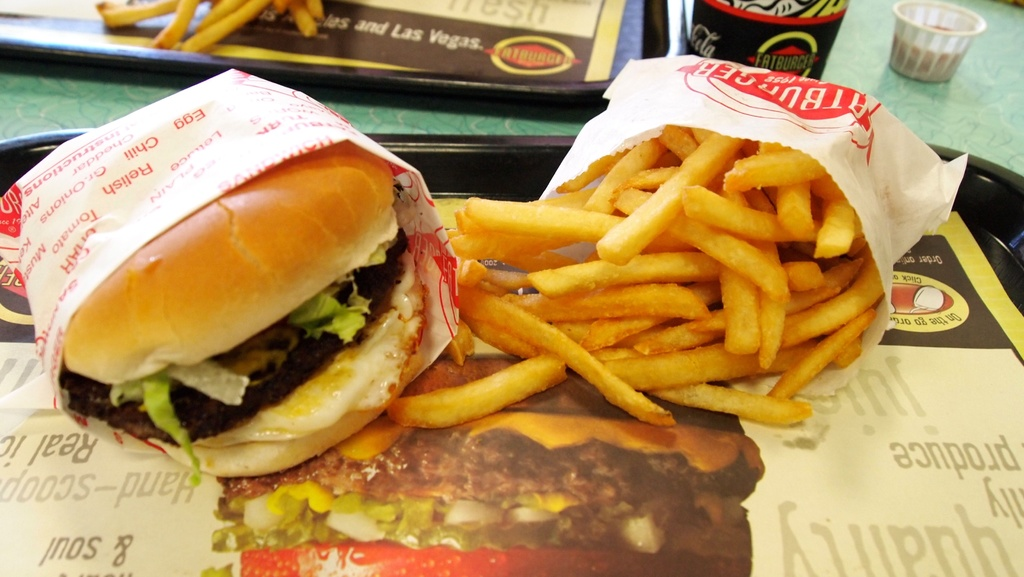French fries: (462, 284, 673, 428), (613, 176, 801, 315), (595, 133, 741, 265), (382, 341, 571, 437), (600, 341, 813, 399), (768, 306, 876, 412), (781, 252, 892, 343), (503, 277, 714, 324), (524, 245, 730, 293), (654, 383, 817, 429), (466, 198, 629, 240), (583, 135, 670, 205), (448, 226, 581, 263), (714, 259, 760, 358), (718, 151, 824, 193), (809, 170, 856, 259), (187, 0, 271, 49), (552, 146, 634, 189), (753, 295, 789, 378), (582, 313, 663, 347), (151, 0, 206, 46), (772, 176, 810, 233), (104, 0, 181, 26), (191, 0, 241, 33), (661, 117, 698, 156), (288, 0, 314, 33), (306, 0, 322, 28), (272, 0, 291, 8)
